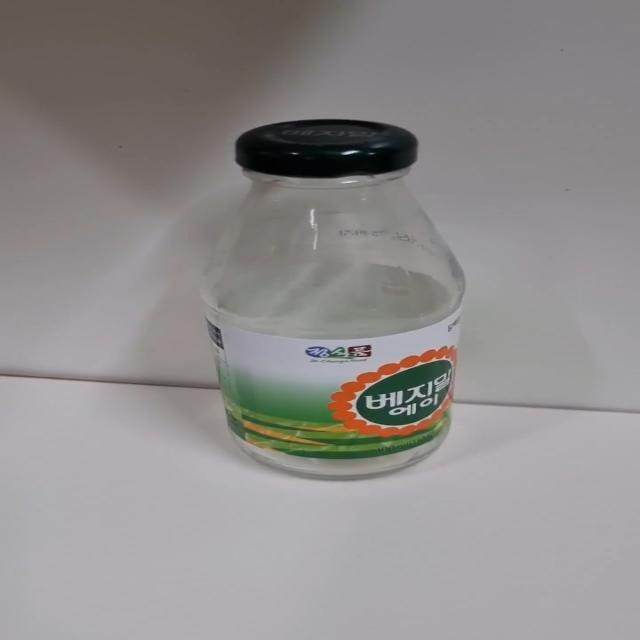Glass: (200, 113, 470, 485)
